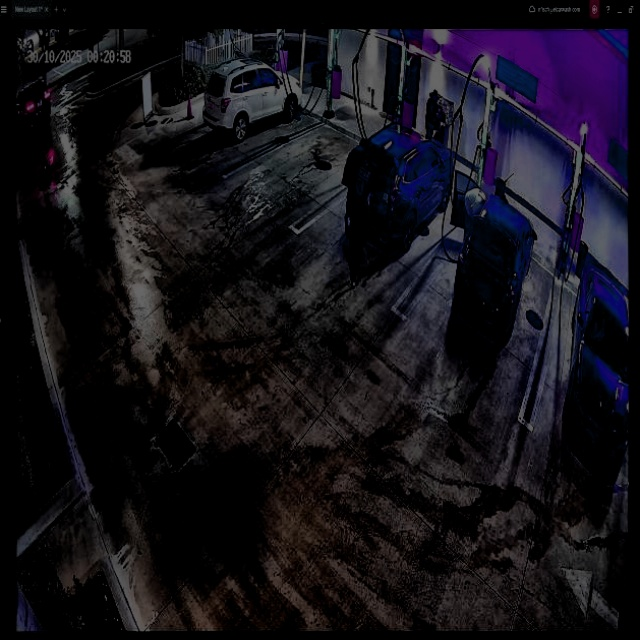Car: (344, 123, 452, 252), (455, 169, 535, 342), (203, 60, 301, 141)
